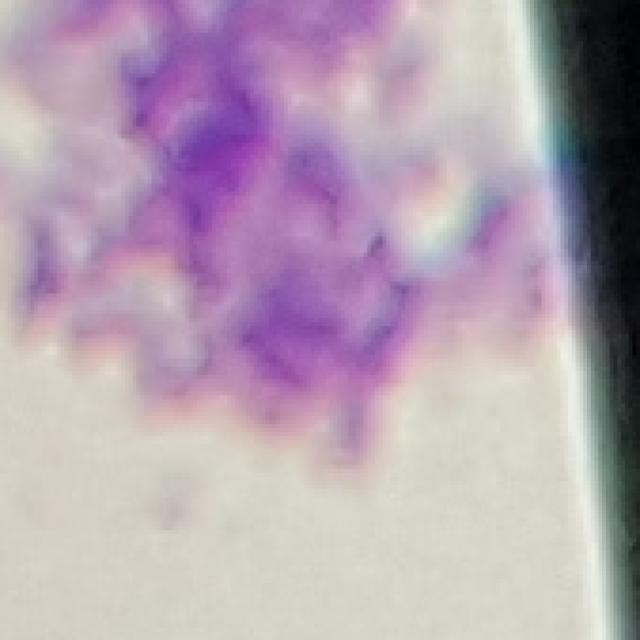non-sperm: (66, 3, 421, 435)
